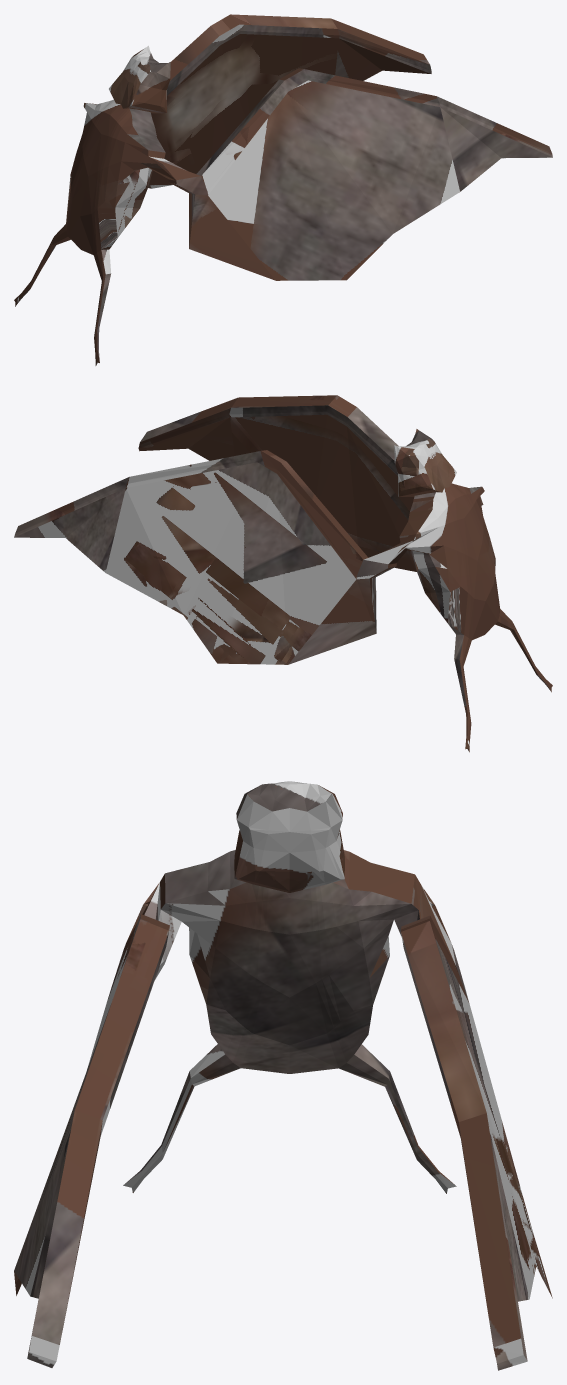
File: Enemigo119.obj
3 views of the same model, one above another, from view 1: azimuth 30°, elevation 25°; view 2: azimuth 150°, elevation 25°; view 3: azimuth 270°, elevation 25° (orthographic). The views are drawn at different scales.
Visible parts, largest first — view 1: Plano; view 2: Plano; view 3: Plano.
Part boxes in pixels (x1,y1,x2,y2): Plano: (14,14,552,365); Plano: (14,395,552,752); Plano: (14,781,552,1370).
Bounding box in the file's own units: 1.22 × 0.6999 × 0.6861.
Materials: 1 (1 with a texture image).
